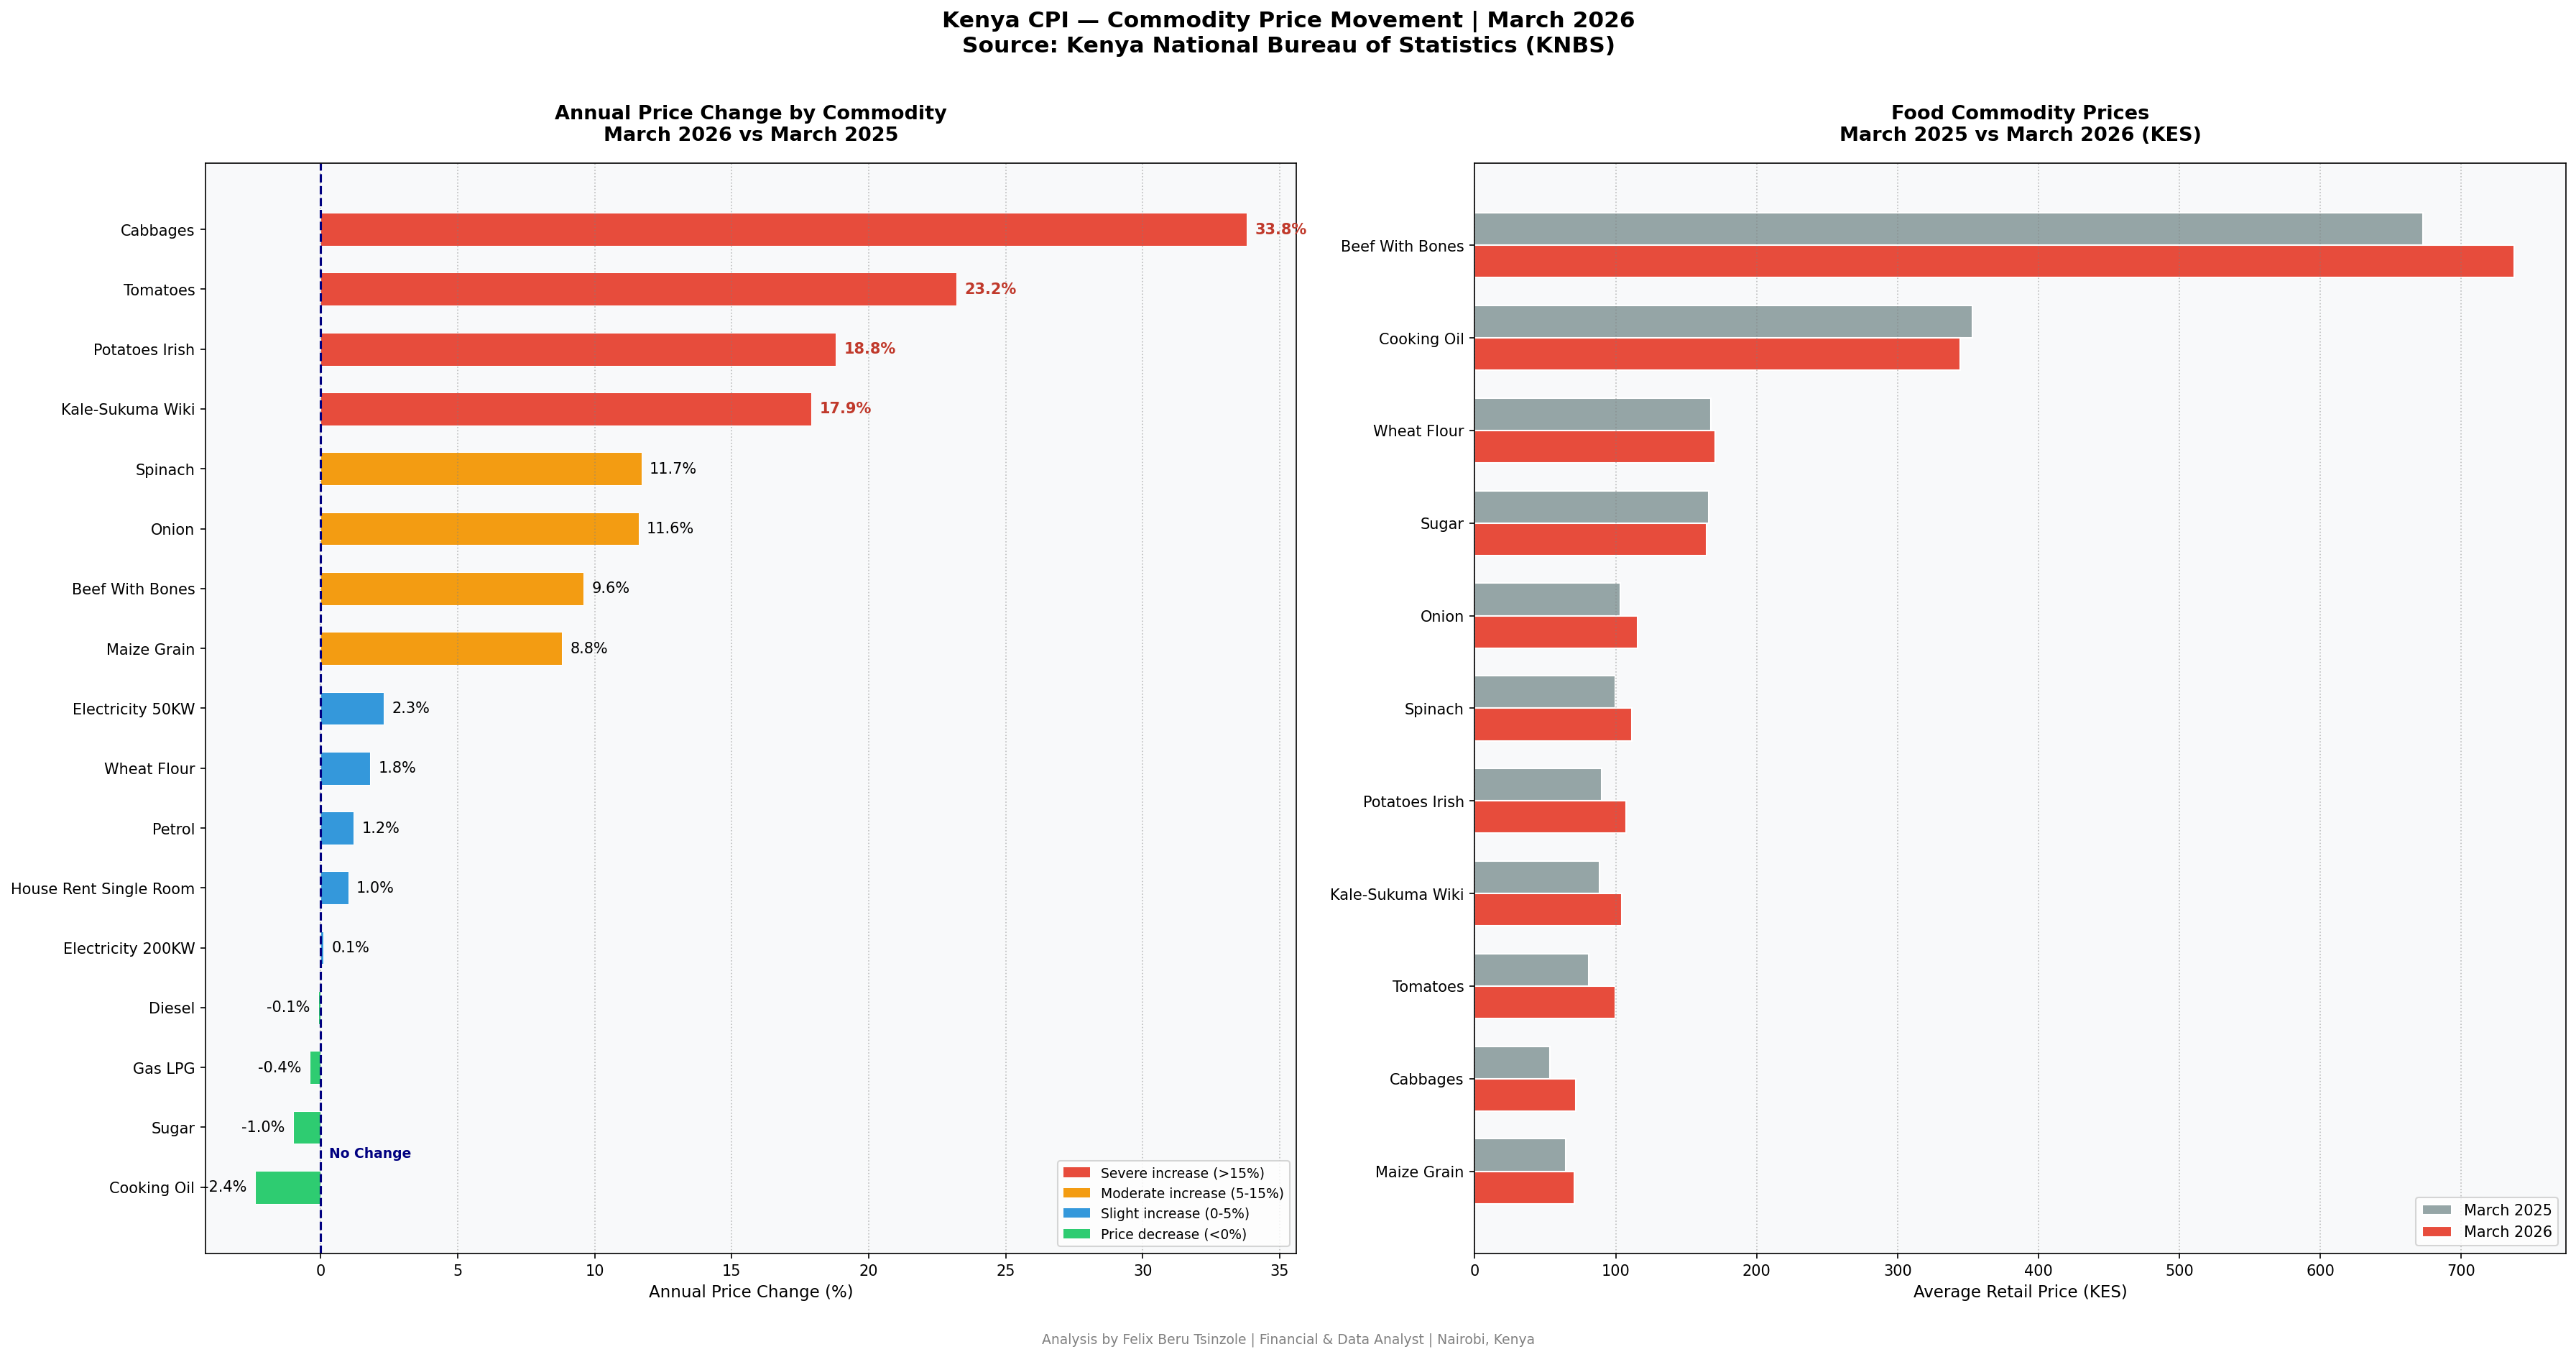

The page's visual inventory and layout, read from the dashboard file:
{"tool":"powerbi","page":{"name":"Commodity Prices","canvas":[1280,720],"ordinal":2},"visuals":[{"type":"textbox","box":[9.4,0,1269.9,73.7],"z":0},{"type":"cardVisual","fields":{"Data":["Divisions.Biggest Increase"]},"box":[0,73.7,419.5,109.6],"z":1},{"type":"cardVisual","fields":{"Data":["Divisions.Commodities Rising"]},"box":[429,73.7,430.9,109.6],"z":2},{"type":"cardVisual","fields":{"Data":["Divisions.Commodities Falling"]},"box":[867.4,73.7,412,109.6],"z":3},{"type":"clusteredBarChart","title":"Annual Price Change by Commodity (%)","fields":{"Category":["Commodities.Commodity"],"Y":["Sum(Commodities.Annual_Change)"]},"box":[0,183.3,555.6,340.2],"z":4},{"type":"clusteredBarChart","title":"Commodity Prices — March 2025 vs March 2026 (KES)","fields":{"Category":["Commodities.Commodity"],"Y":["Sum(Commodities.Price_March2025)","Sum(Commodities.Price_March2026)"]},"box":[703,183.3,576.4,340.2],"z":5},{"type":"tableEx","title":"Full Commodity Price Table","fields":{"Values":["Commodities.Commodity","Commodities.Unit","Sum(Commodities.Price_March2025)","Sum(Commodities.Price_Feb2026)","Sum(Commodities.Price_March2025)","Sum(Commodities.Monthly_Change)","Sum(Commodities.Annual_Change)"]},"box":[0,532.9,1279.4,187.1],"z":6},{"type":"textbox","box":[555.6,183.3,147.4,340.2],"z":7}]}

Visuals, with their boxes on the page's 1280x720 design canvas (x1, y1, x2, y2). These are canvas units, not pixel positions in the 2576x1357 screenshot, which may show the page scaled, cropped or inside an application window:
textbox: BBox(9, 0, 1279, 74)
cardVisual - Divisions.Biggest Increase: BBox(0, 74, 420, 183)
cardVisual - Divisions.Commodities Rising: BBox(429, 74, 860, 183)
cardVisual - Divisions.Commodities Falling: BBox(867, 74, 1279, 183)
"Annual Price Change by Commodity (%)" clusteredBarChart: BBox(0, 183, 556, 524)
"Commodity Prices — March 2025 vs March 2026 (KES)" clusteredBarChart: BBox(703, 183, 1279, 524)
"Full Commodity Price Table" tableEx: BBox(0, 533, 1279, 720)
textbox: BBox(556, 183, 703, 524)
